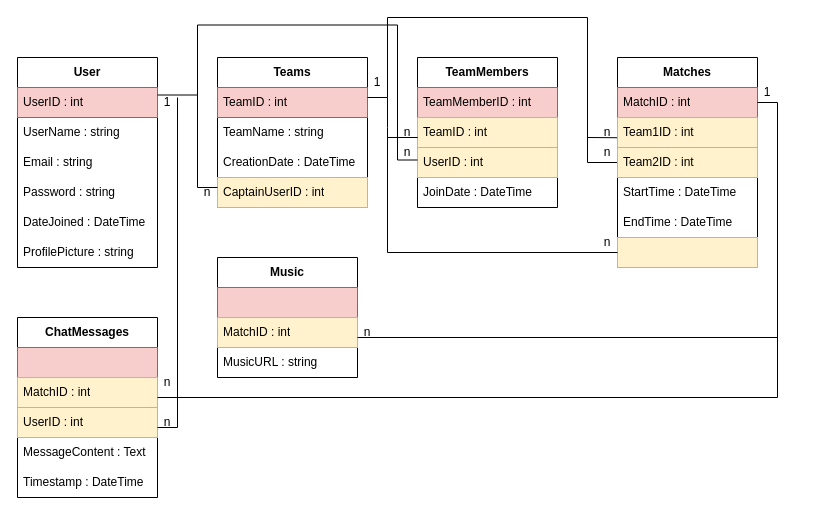
Image size: 815x515. Some labels were removed from this diagram. Here are the shapes that lost their labels. From the top down, the centre of each, then its label:
At point 687,252: "WinningTeamID : int".
At point 287,302: "MusicID : int".
At point 87,362: "MessageID : int".
